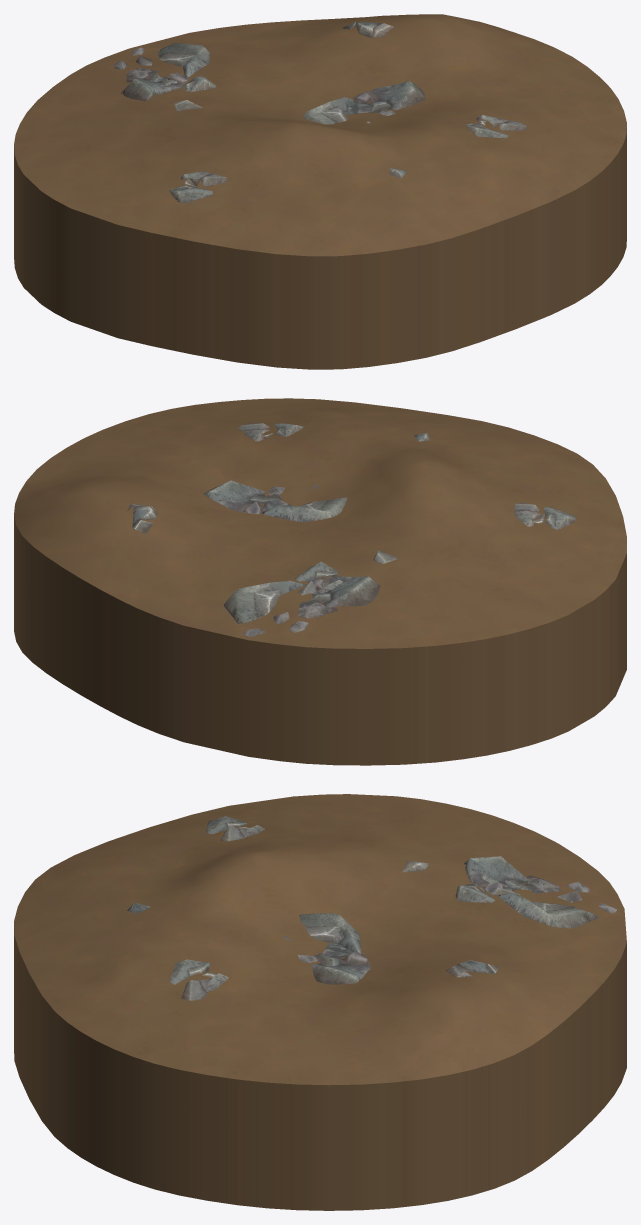
The picture shows the model from 3 angles, top to bottom: view 1: azimuth 30°, elevation 25°; view 2: azimuth 150°, elevation 25°; view 3: azimuth 270°, elevation 25°; orthographic projection. The views are drawn at different scales.
Visible parts, largest first — view 1: SM_Vault_Sand_Pile_01_V3_LOD0; view 2: SM_Vault_Sand_Pile_01_V3_LOD0; view 3: SM_Vault_Sand_Pile_01_V3_LOD0.
Boxes of the visible parts, <box> form: SM_Vault_Sand_Pile_01_V3_LOD0: <box>14,14,626,369</box>; SM_Vault_Sand_Pile_01_V3_LOD0: <box>14,398,626,765</box>; SM_Vault_Sand_Pile_01_V3_LOD0: <box>14,794,626,1210</box>.
Size of the model in its own units: 4.96 by 1.41 by 4.42.
2 materials, 2 textured.
